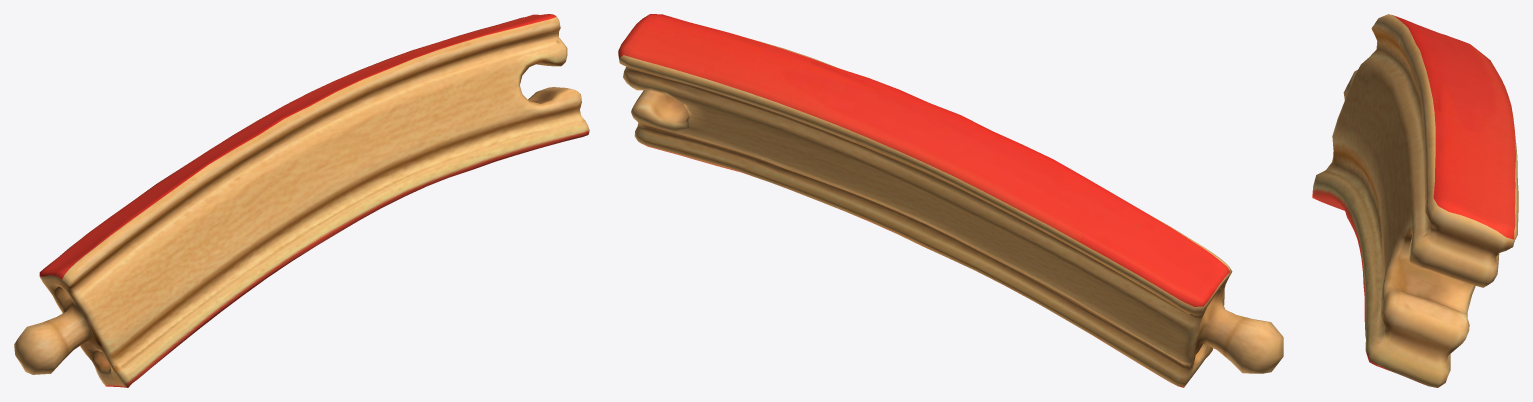
File: WoodTrail_RedTwist.fbx
3 renders of one model, left to right at view 1: azimuth 30°, elevation 25°; view 2: azimuth 150°, elevation 25°; view 3: azimuth 270°, elevation 25°, orthographic. The views are drawn at different scales.
Parts seen in each view (by area): view 1: Trail_RedTwist; view 2: Trail_RedTwist; view 3: Trail_RedTwist.
Part boxes in pixels (box(x1,y1,x2,y2)): Trail_RedTwist: box(14, 14, 589, 387); Trail_RedTwist: box(618, 14, 1283, 387); Trail_RedTwist: box(1312, 14, 1518, 387).
Bounding box in the file's own units: 47.59 × 19.31 × 10.19.
1 material, 1 textured.
